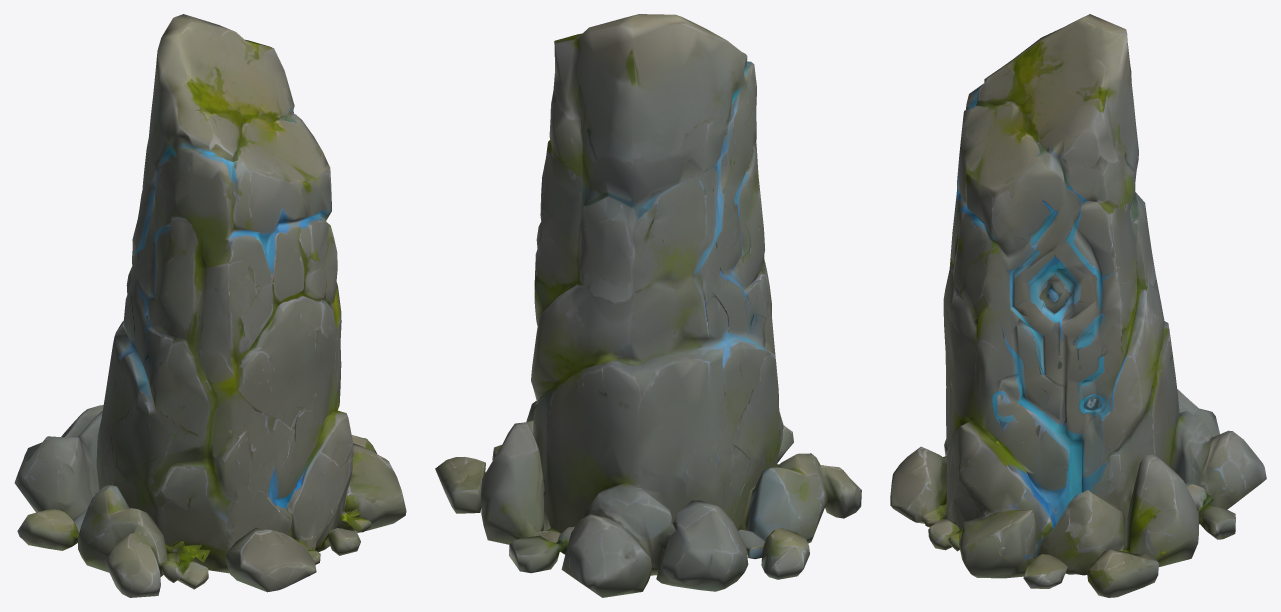
The model's file is menhir.glb.
3 views of the same model, side by side, from view 1: azimuth 30°, elevation 25°; view 2: azimuth 150°, elevation 25°; view 3: azimuth 270°, elevation 25° (orthographic). The views are drawn at different scales.
Parts seen in each view (by area): view 1: tripo_node_8d901eba-7308-4add-b909-45577ada2d9f; view 2: tripo_node_8d901eba-7308-4add-b909-45577ada2d9f; view 3: tripo_node_8d901eba-7308-4add-b909-45577ada2d9f.
Boxes of the visible parts, left/top/right/bottom form: tripo_node_8d901eba-7308-4add-b909-45577ada2d9f: left=14, top=14, right=406, bottom=597; tripo_node_8d901eba-7308-4add-b909-45577ada2d9f: left=435, top=14, right=861, bottom=597; tripo_node_8d901eba-7308-4add-b909-45577ada2d9f: left=890, top=14, right=1266, bottom=597.
Bounding box in the file's own units: 0.7476 × 1 × 0.7031.
1 material, 1 textured.
